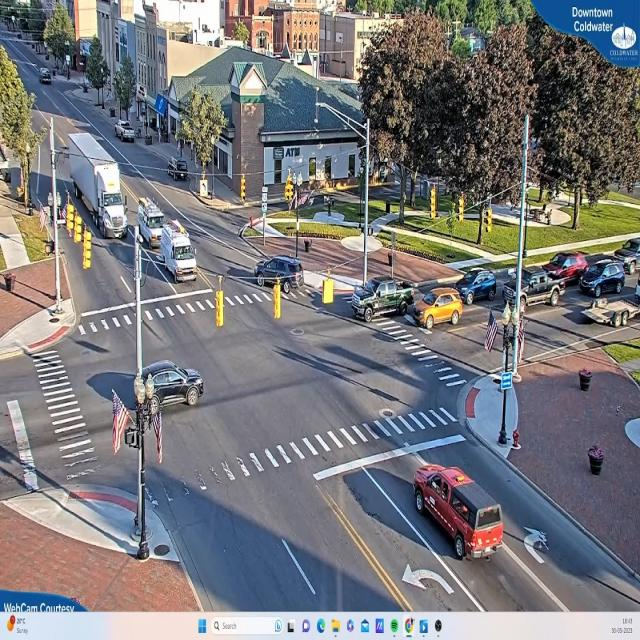car: (412, 466, 506, 562), (135, 361, 203, 409), (351, 278, 413, 318), (504, 272, 566, 309), (160, 222, 198, 282), (409, 289, 464, 328), (254, 257, 304, 291), (579, 264, 627, 298), (585, 298, 638, 328), (544, 253, 590, 281), (456, 272, 496, 304), (525, 528, 552, 556), (117, 122, 137, 144), (42, 72, 54, 84)
truck: (71, 143, 129, 238)
